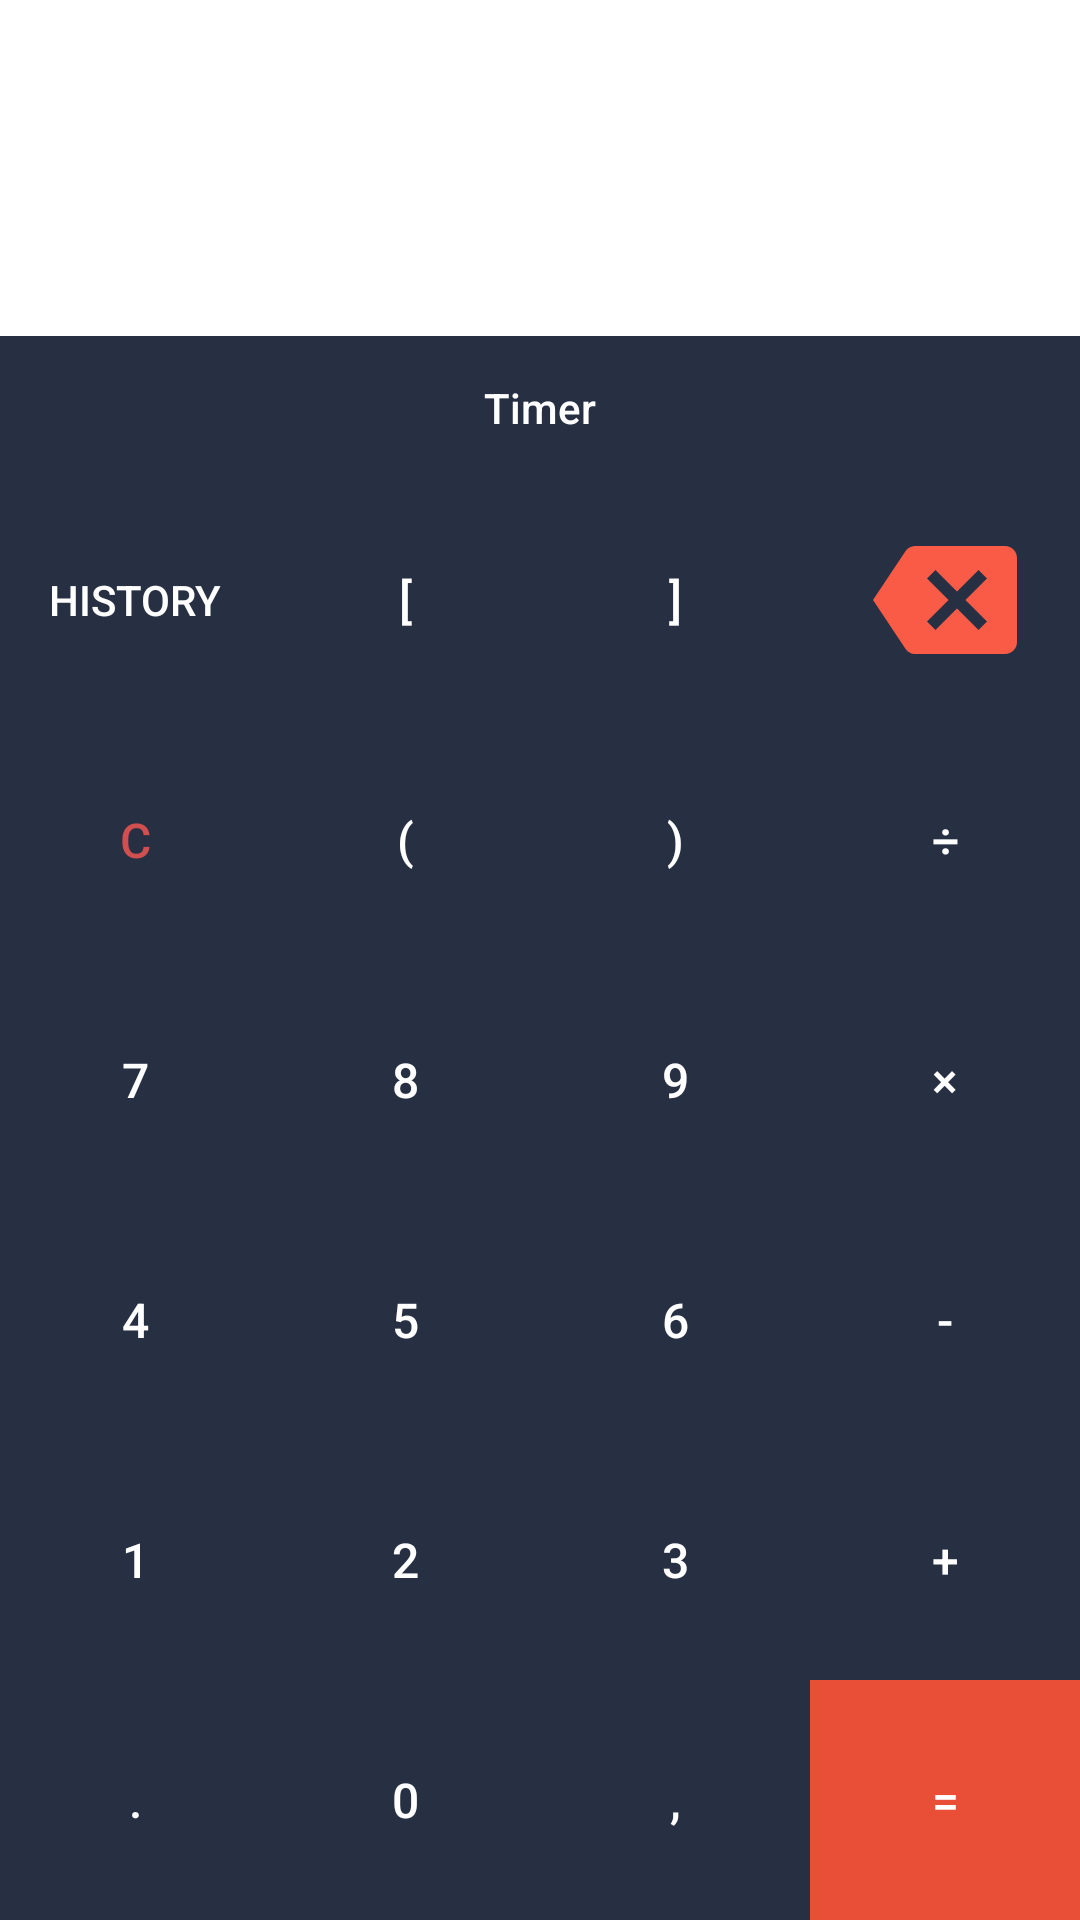

Where icons sit on this 1080×1920 app screen, as (x1, y1, x2, y2):
backspace: (873, 546, 1017, 654)
